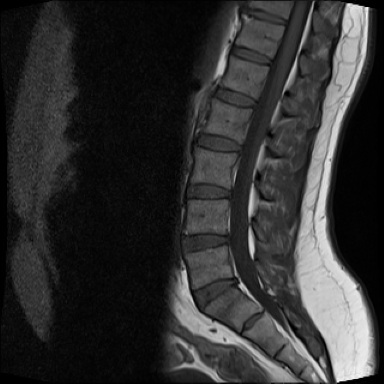Normal IVD: (181, 268, 242, 316), (187, 127, 246, 158), (172, 230, 233, 259), (211, 80, 260, 112), (182, 176, 234, 203), (228, 42, 275, 70), (240, 6, 291, 28)
